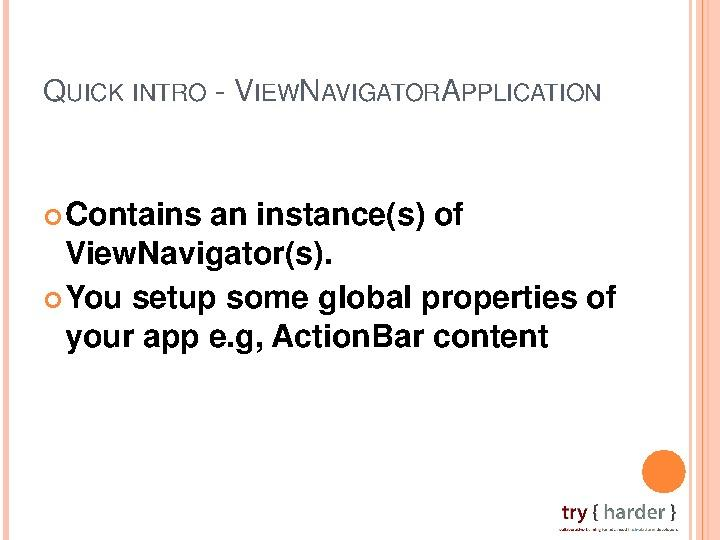paragraph: (43, 172, 659, 373)
subtitle: (540, 491, 693, 537)
title: (30, 57, 622, 128)
